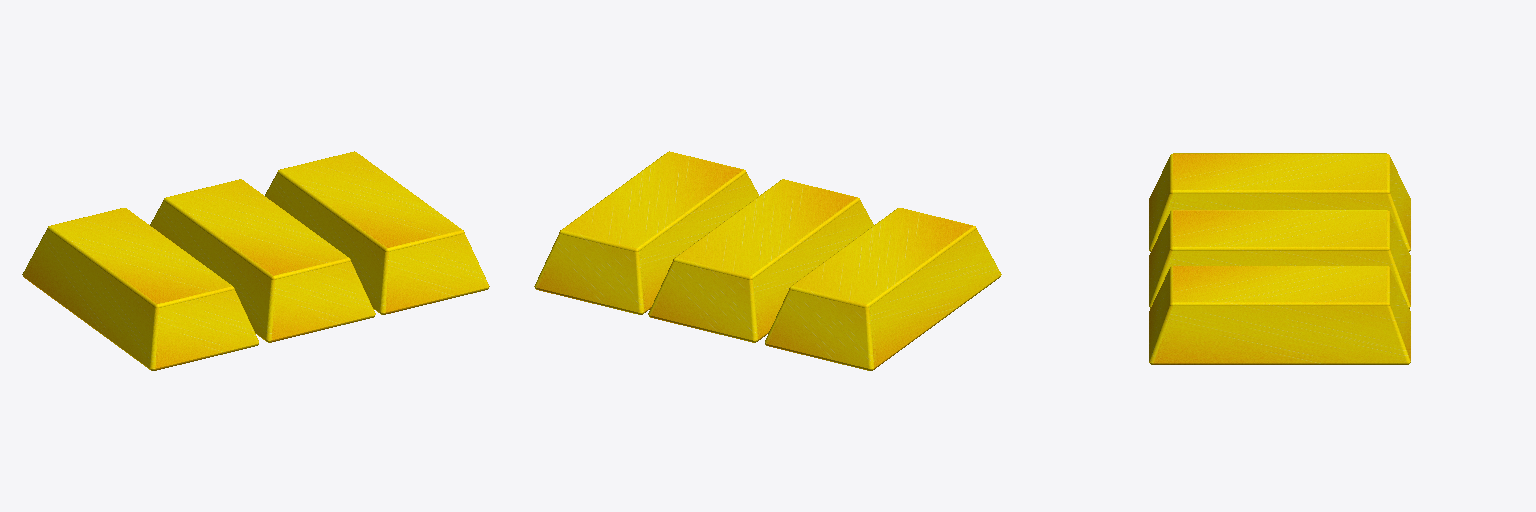
3 renders of one model, left to right at view 1: azimuth 30°, elevation 25°; view 2: azimuth 150°, elevation 25°; view 3: azimuth 270°, elevation 25°, orthographic.
Parts seen in each view (by area): view 1: gold_bullion_obj; view 2: gold_bullion_obj; view 3: gold_bullion_obj.
Part boxes in pixels (bbox=[...]): gold_bullion_obj: bbox=[22, 151, 489, 370]; gold_bullion_obj: bbox=[534, 151, 1001, 370]; gold_bullion_obj: bbox=[1149, 153, 1410, 364].
Bounding box in the file's own units: 2.52 × 0.3974 × 1.68.
1 materials, 1 textured.